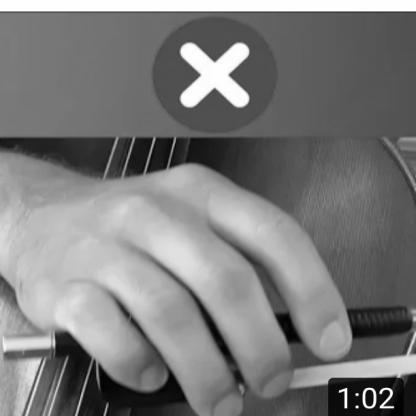bad: (30, 151, 358, 415)
